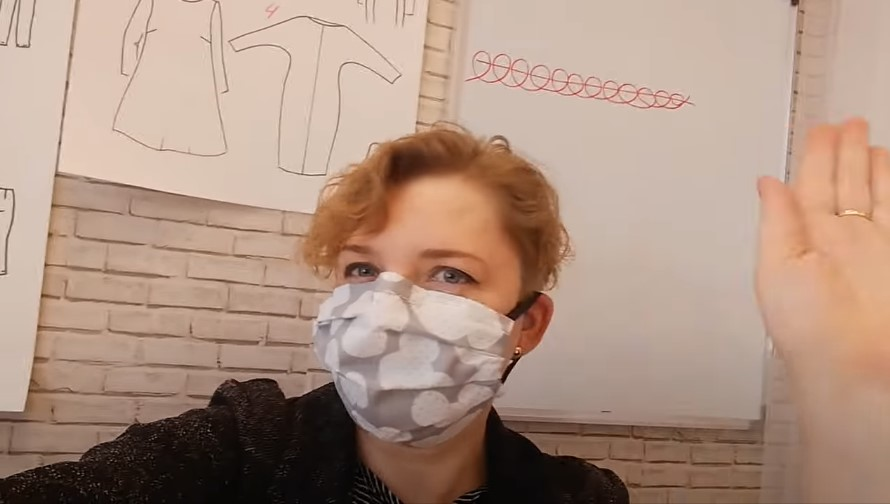face_with_mask: (308, 134, 551, 446)
